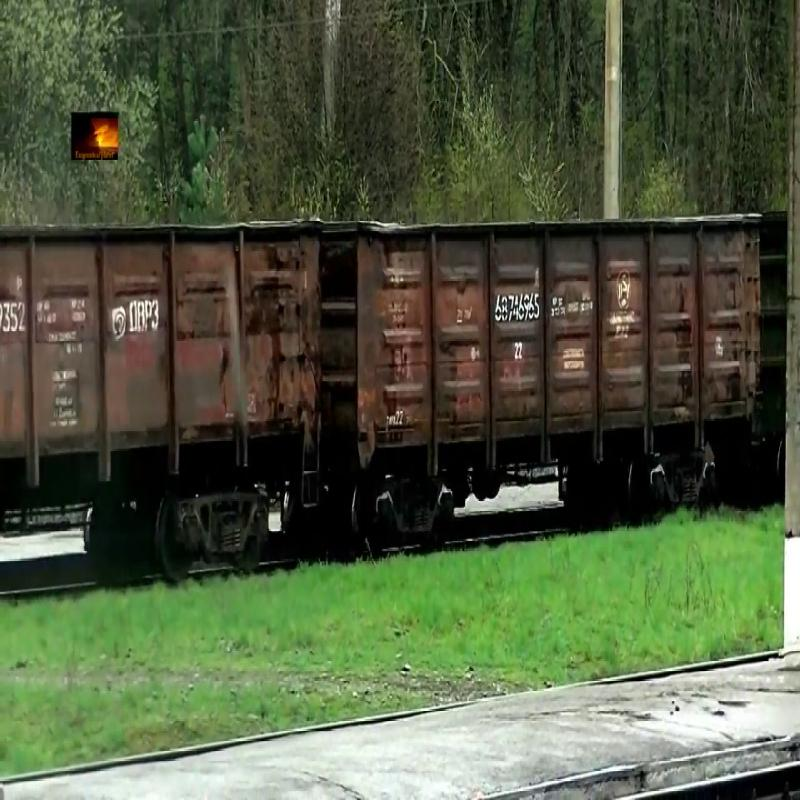train: (327, 215, 764, 475), (1, 224, 323, 495)
